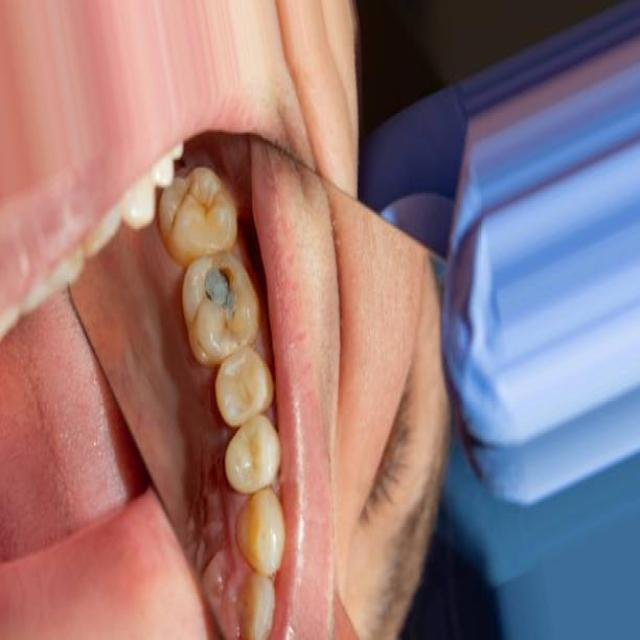caries: (192, 250, 244, 331)
